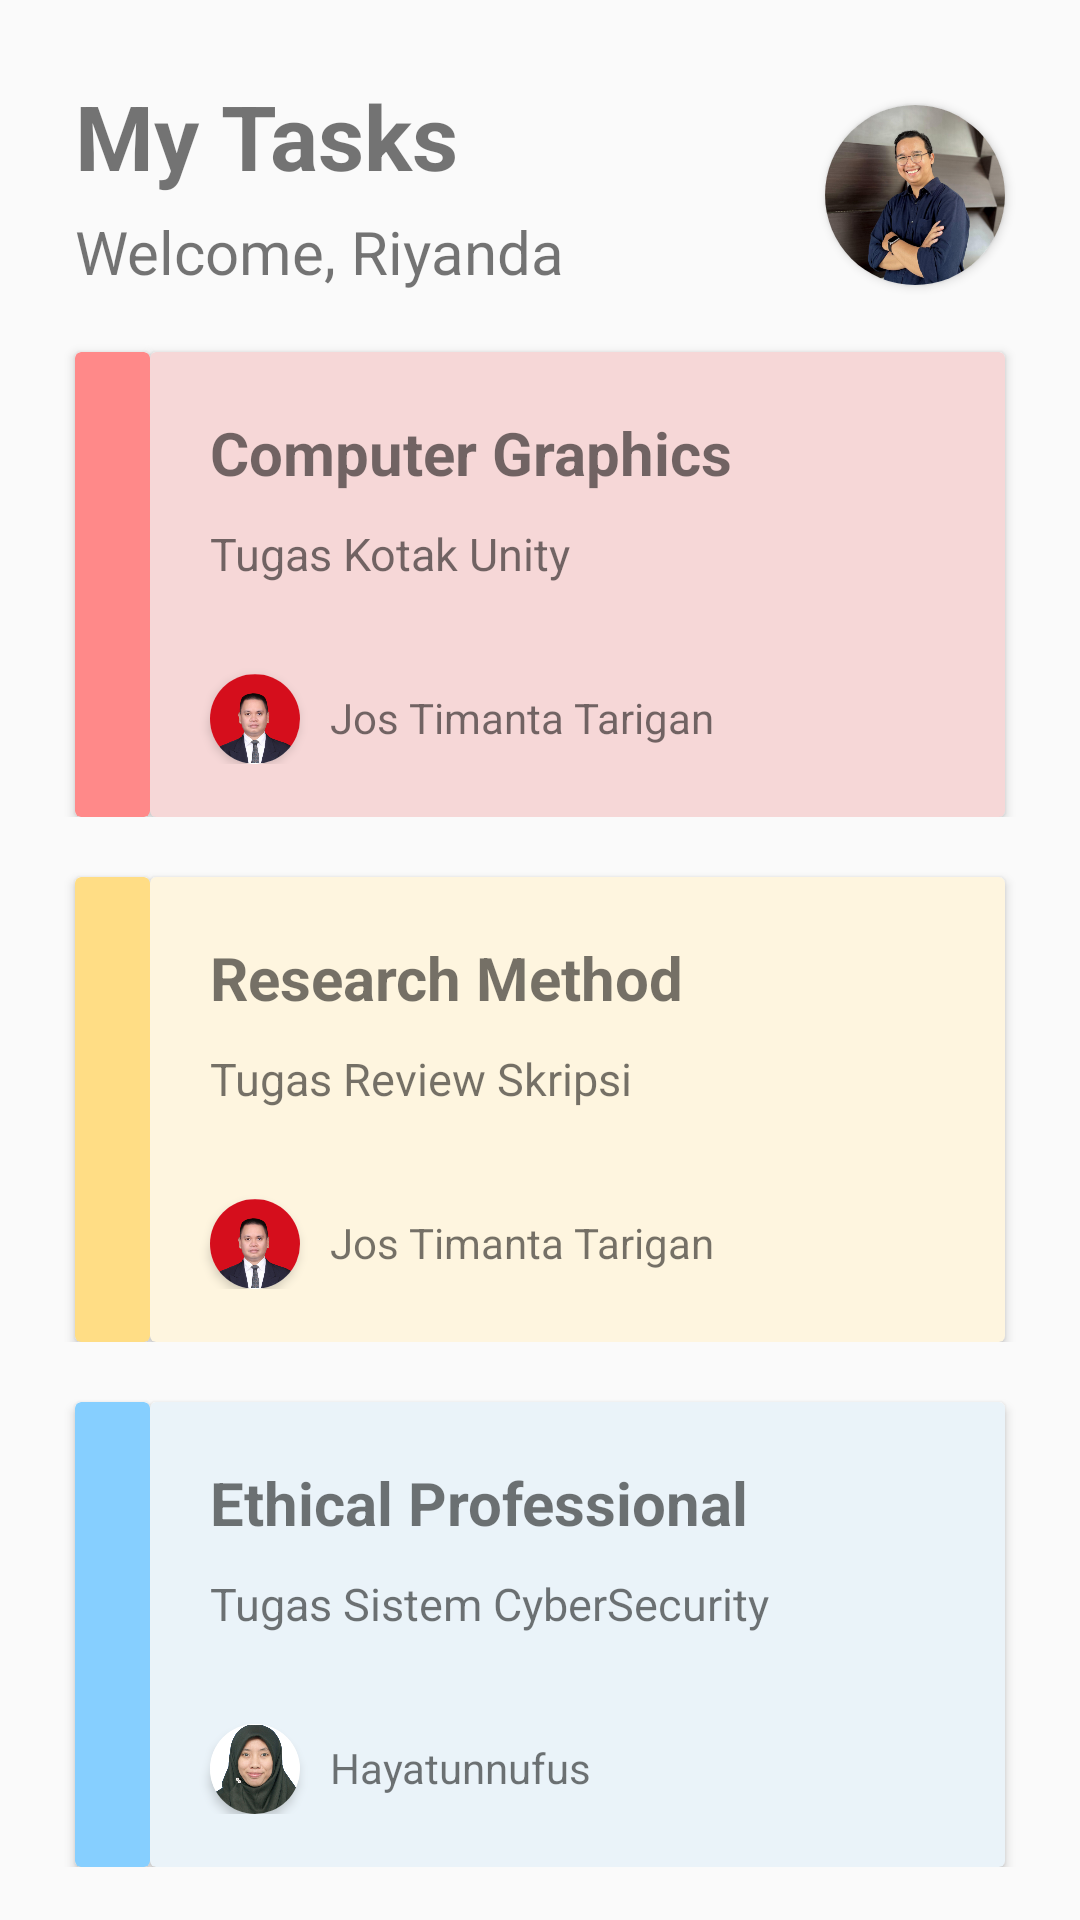

Icon bounding boxes for this 1080px×1920px phone screenshot, format (x1,y1,x2,y2):
profil jos: (210,674,300,764), (210,1199,300,1289)
profil uun: (211,1725,296,1814)
